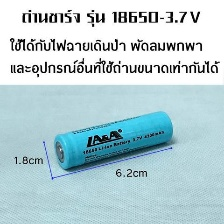battery: (51, 110, 173, 171)
